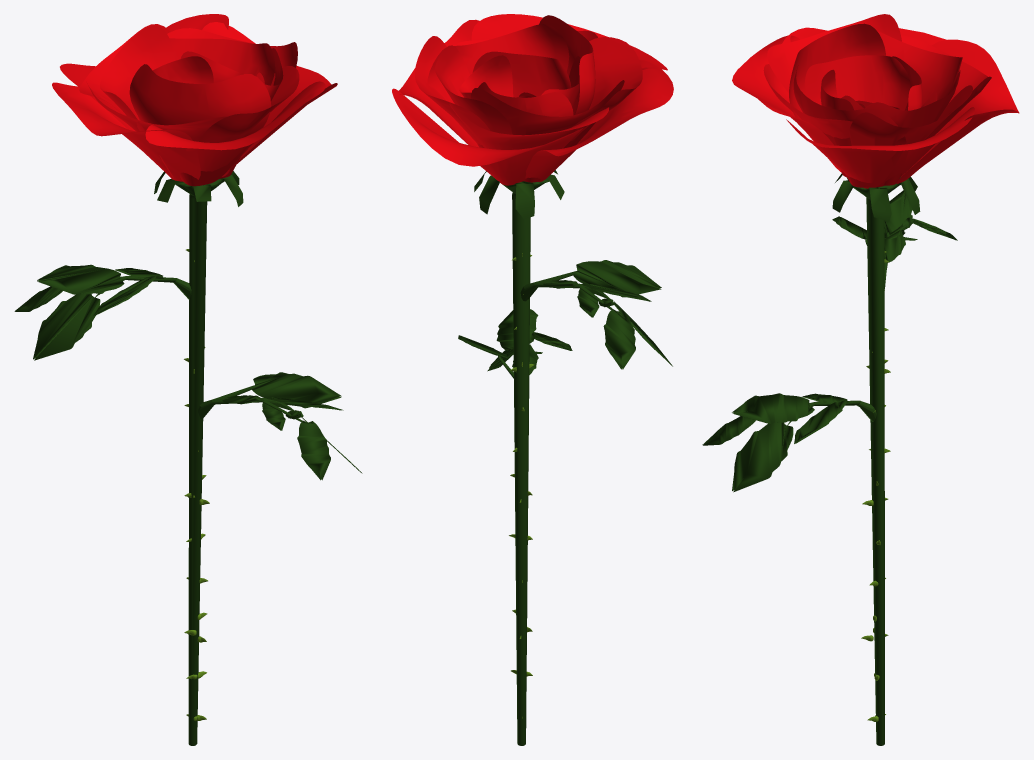
File: rosa.glb
The picture shows the model from 3 angles, left to right: view 1: azimuth 30°, elevation 25°; view 2: azimuth 150°, elevation 25°; view 3: azimuth 270°, elevation 25°; orthographic projection.
Parts seen in each view (by area): view 1: flor, cabo; view 2: flor, cabo; view 3: flor, cabo.
Part boxes in pixels (box(x1,y1,x2,y2)): flor: box(52, 14, 337, 186); cabo: box(14, 171, 362, 745); flor: box(392, 14, 673, 185); cabo: box(458, 170, 672, 745); flor: box(732, 14, 1019, 188); cabo: box(702, 173, 957, 745).
Size of the model in its own units: 0.524 by 1.31 by 0.5409.
